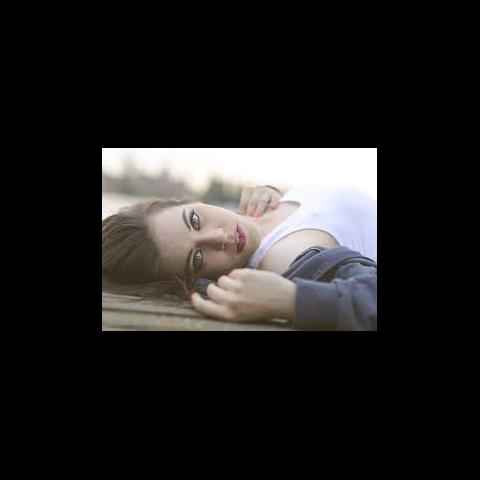opened: (180, 204, 214, 276)
